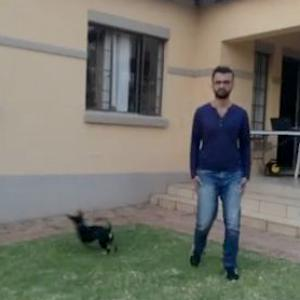follow: (185, 67, 252, 276)
